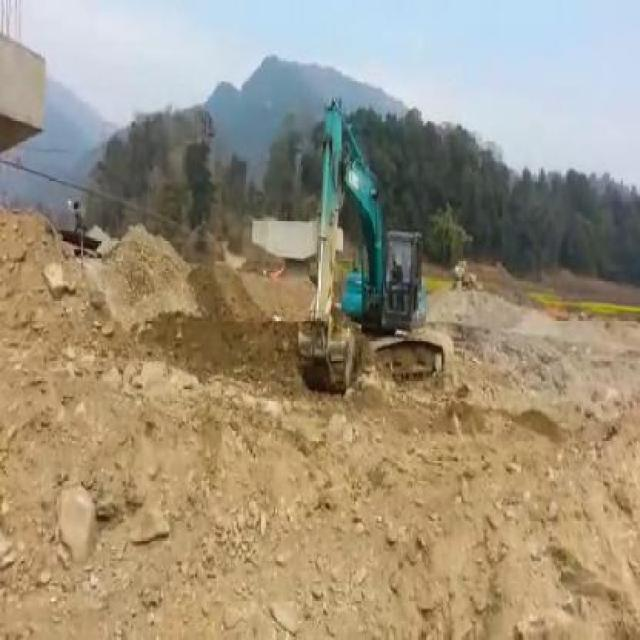excavator: (294, 90, 444, 398)
